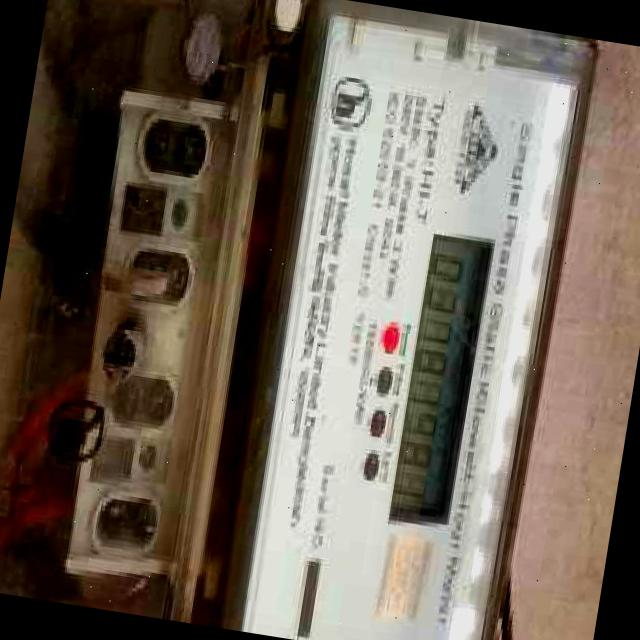LCD: (375, 215, 504, 542)
